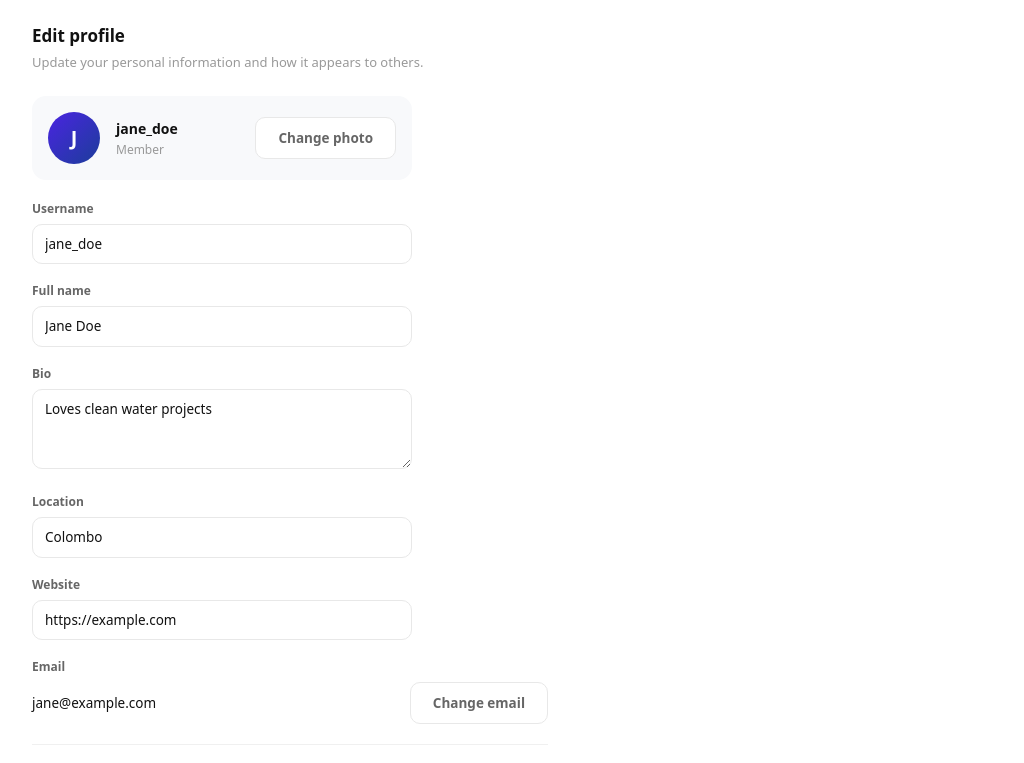
ProfileSection › saves the edited fields and excludes email from the general save
The width and height of the screenshot is (1024, 763).
Replace the text in the field showing "Colombo" below "Location" with "Kandy" at (222, 537), box [32,517,412,558]
(page scrolled)
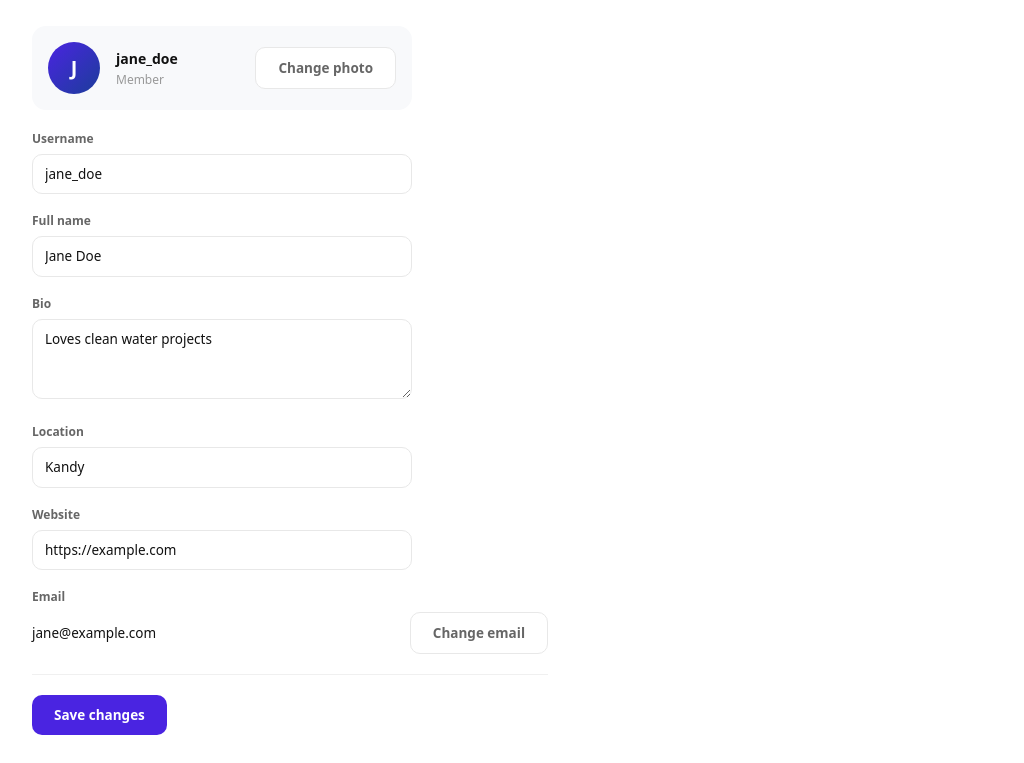
Click the button "Save changes" at (99, 715), box [32,695,167,735]
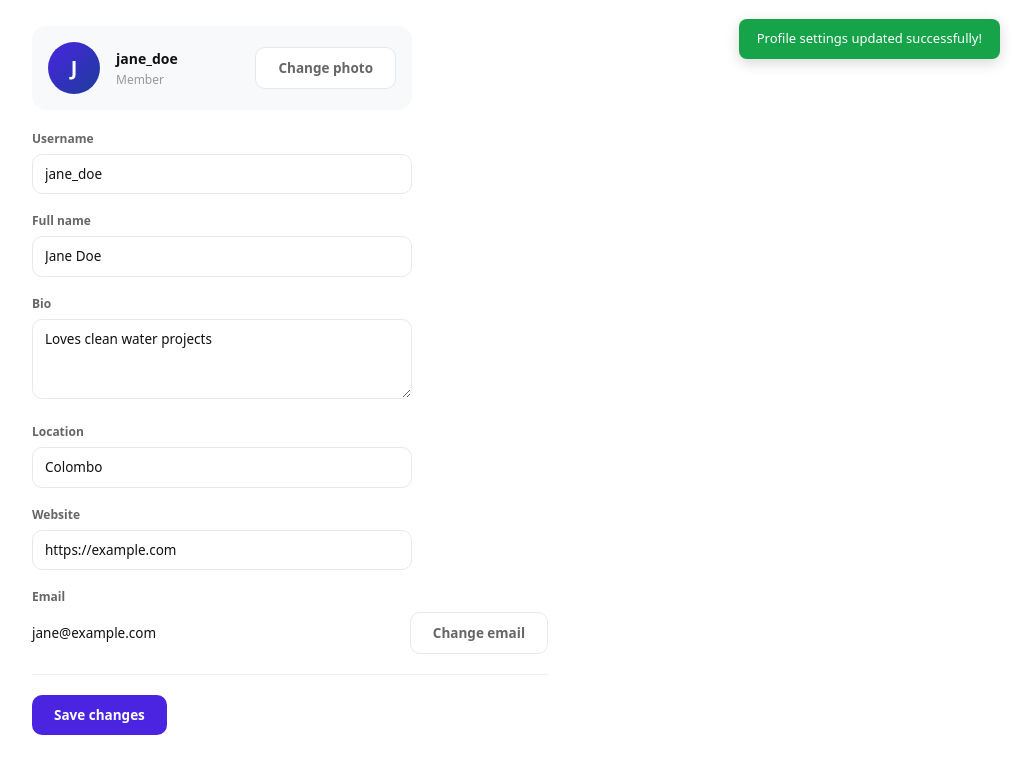
Check: the text "Profile settings updated successfully!" is shown, box [739,19,1000,58]
